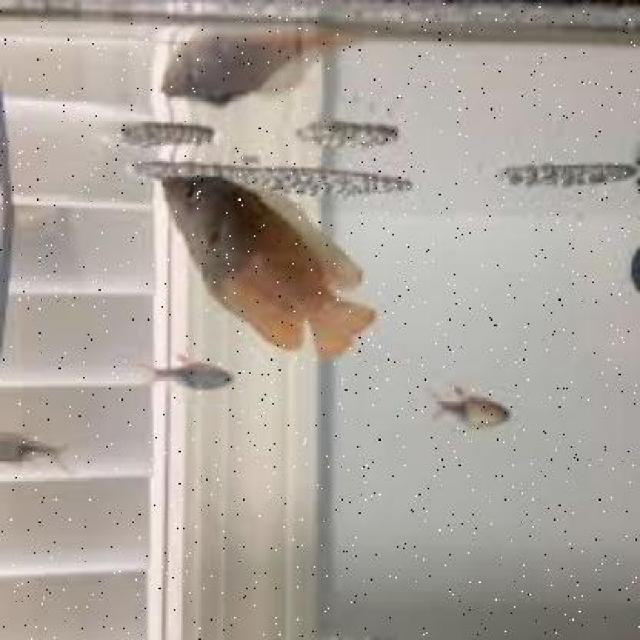gurame: (156, 167, 377, 356)
